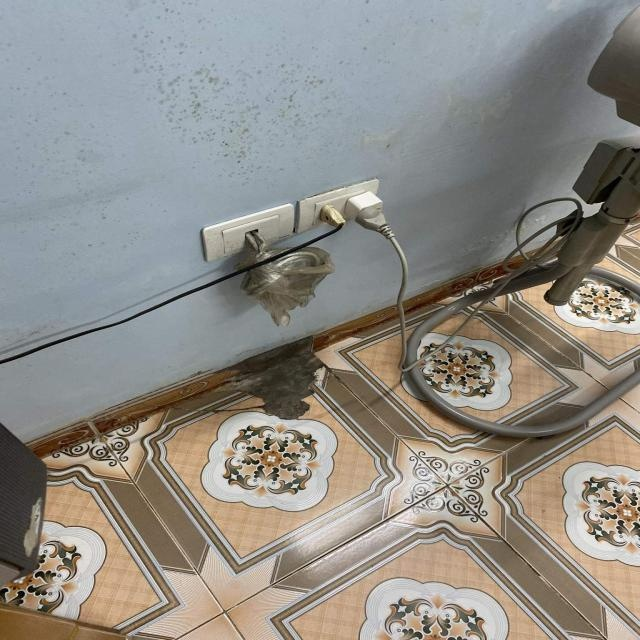outlet: (201, 203, 295, 262), (296, 178, 381, 234)
